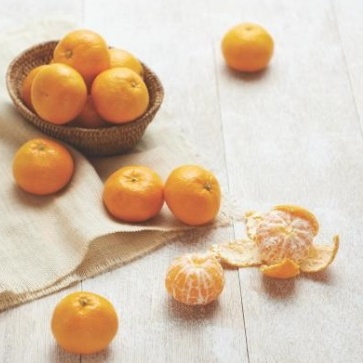mandarin: (51, 294, 118, 354), (100, 165, 165, 224), (13, 137, 74, 196), (252, 209, 314, 265), (164, 165, 220, 225), (90, 67, 150, 122), (31, 64, 87, 122), (165, 252, 224, 306), (52, 30, 110, 84), (221, 22, 275, 76), (104, 50, 144, 79)
